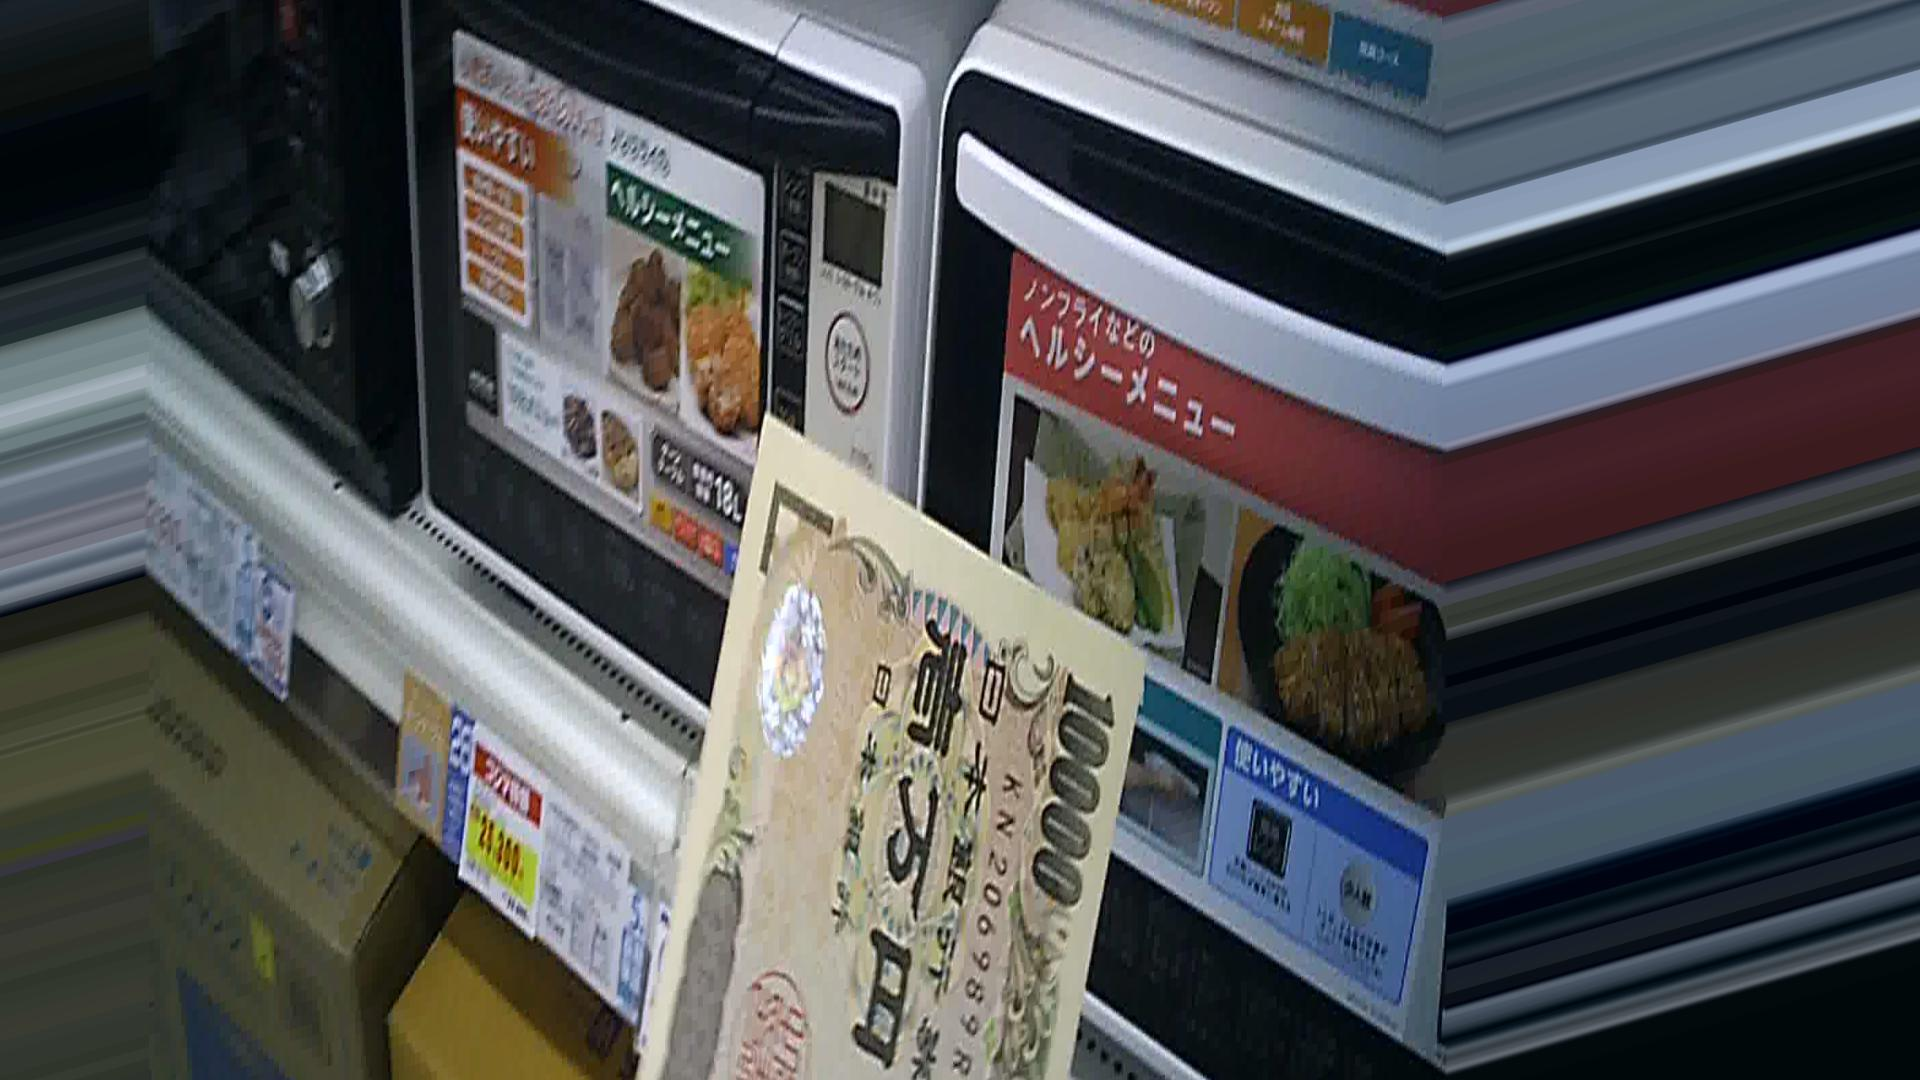10,000 Yen: (556, 415, 1166, 1079)
